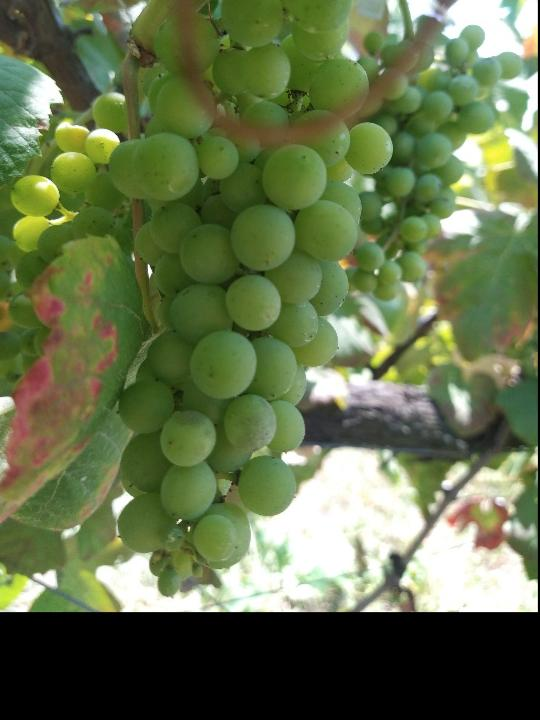grape: (102, 0, 398, 604)
